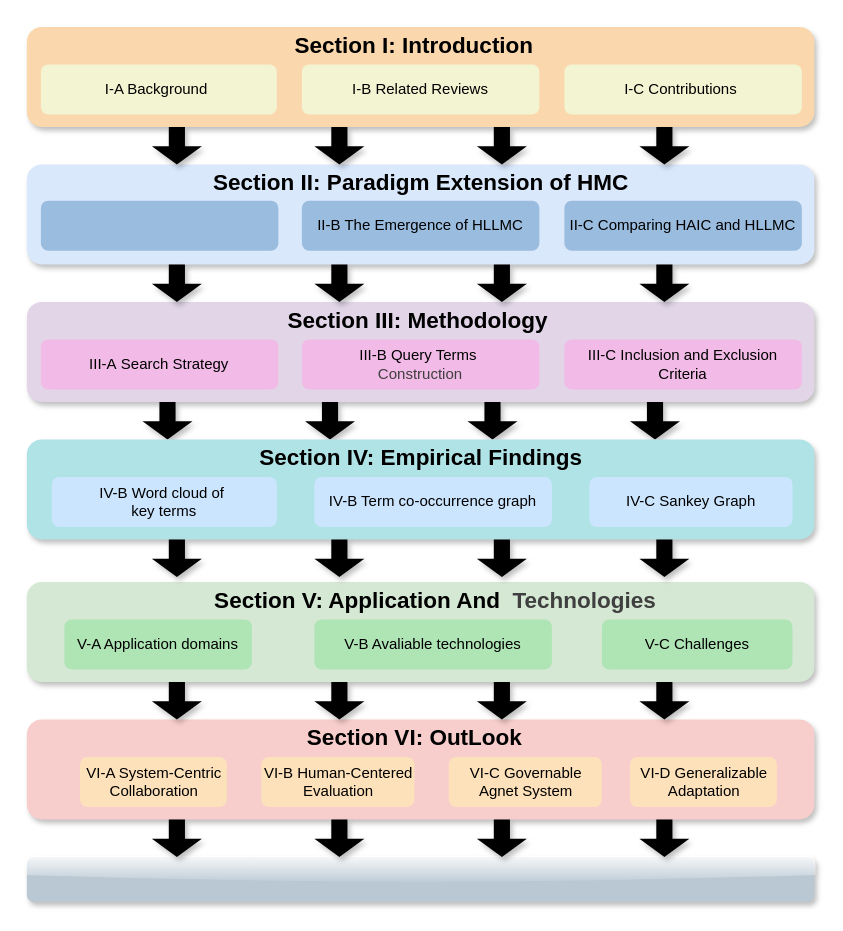
Some shapes in this 843 by 931 pixel diagram are drawn without their labels. The shapes that lost their labels are listed below. From the top down, each one's centre as x and y in pixels, then its label:
the point at 159,225: II-A From HMC to HAIC
the point at 421,880: Section VII: Conclusions
